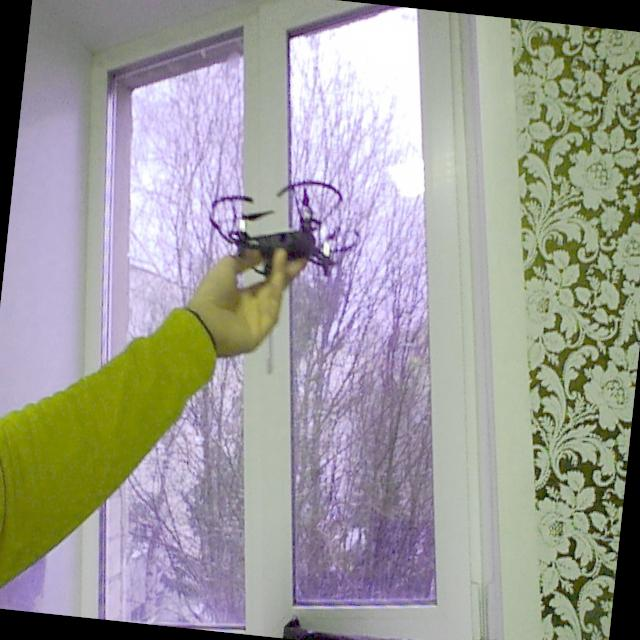drone: (197, 160, 365, 313)
